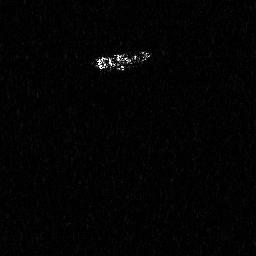ship: (90, 48, 153, 74)
